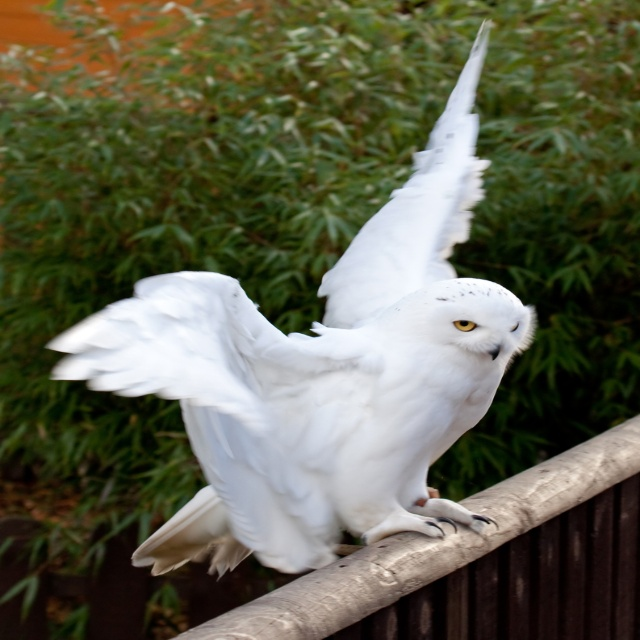Owl: (44, 18, 538, 581)
